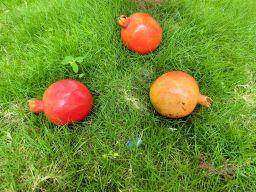pomegranate: (149, 70, 212, 119), (28, 79, 93, 126), (116, 11, 162, 54)
